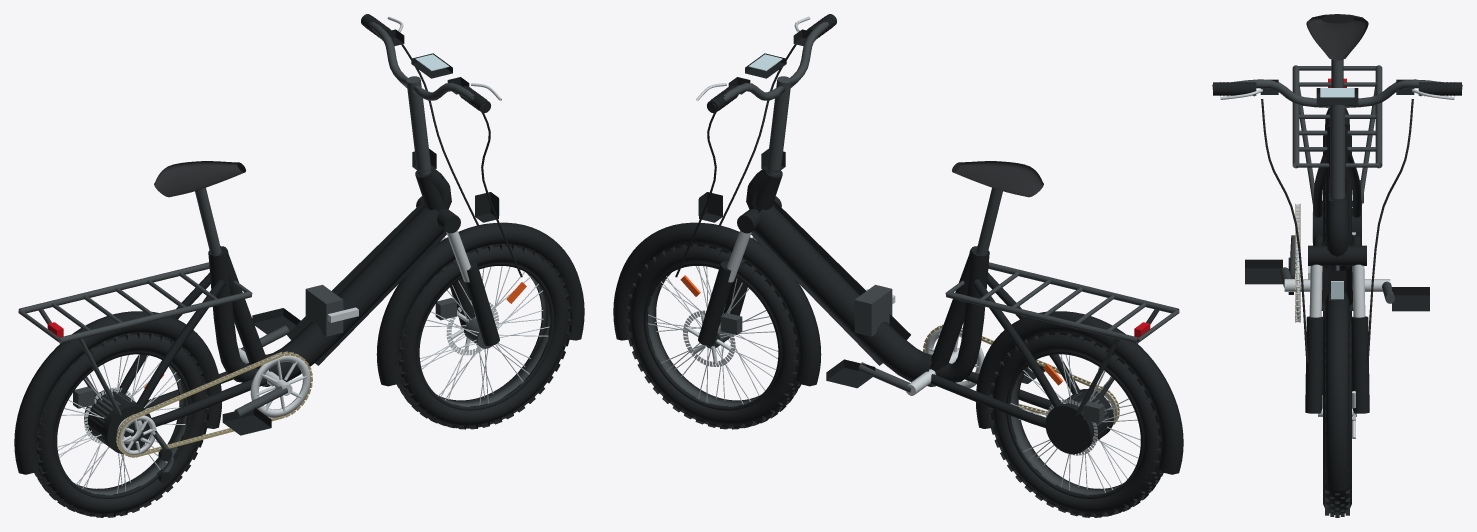
The model's file is lectric-xp-3-0.glb.
The picture shows the model from 3 angles, left to right: view 1: azimuth 30°, elevation 25°; view 2: azimuth 150°, elevation 25°; view 3: azimuth 270°, elevation 25°; orthographic projection. The views are drawn at different scales.
Parts seen in each view (by area): view 1: Bodywork | black, FrontWheel | rubber, RearWheel | rubber, Chassis | black, BatteryMount | black, Bodywork | graphite, Drive | steel, FrontWheel | steel, Cockpit | graphite, Fork | black, FrontWheel | graphite, Chassis | graphite (+11 smaller); view 2: Bodywork | black, FrontWheel | rubber, RearWheel | rubber, Chassis | black, BatteryMount | black, Bodywork | graphite, FrontWheel | steel, Cockpit | graphite, MotorMount | black, Chassis | graphite, Fork | black, Bodywork | seat (+10 smaller); view 3: Bodywork | black, Fork | black, Bodywork | graphite, Chassis | black, Cockpit | graphite, Cockpit | rubber, Bodywork | seat, Drive | black, FrontWheel | rubber, Fork | steel, Cockpit | black, Drive | steel (+8 smaller).
Part boxes in pixels (x1,y1,x2,y2): Bodywork | black: (14,192,584,474); FrontWheel | rubber: (396,244,572,429); RearWheel | rubber: (34,332,209,517); Chassis | black: (119,164,451,426); BatteryMount | black: (262,201,446,386); Bodywork | graphite: (18,262,252,415); Drive | steel: (117,347,310,455); FrontWheel | steel: (420,266,549,405); Cockpit | graphite: (368,22,485,175); Fork | black: (416,196,499,345); FrontWheel | graphite: (435,273,550,406); Chassis | graphite: (195,187,343,336); Bodywork | black: (613,192,1183,474); FrontWheel | rubber: (625,244,801,429); RearWheel | rubber: (988,332,1163,517); Chassis | black: (746,164,1079,427); BatteryMount | black: (751,201,935,386); Bodywork | graphite: (945,262,1179,415); FrontWheel | steel: (648,266,778,404); Cockpit | graphite: (712,22,829,175); MotorMount | black: (1045,389,1113,454); Chassis | graphite: (854,187,1002,336); Fork | black: (698,196,781,345); Bodywork | seat: (952,161,1043,197); Bodywork | black: (1325,108,1349,491); Fork | black: (1305,245,1369,413); Bodywork | graphite: (1292,65,1382,270); Chassis | black: (1313,124,1361,270); Cockpit | graphite: (1212,79,1462,198); Cockpit | rubber: (1213,82,1461,362); Bodywork | seat: (1306,14,1368,60); Drive | black: (1245,257,1429,311); FrontWheel | rubber: (1323,309,1351,517); Fork | steel: (1309,264,1365,317); Cockpit | black: (1220,79,1454,200); Drive | steel: (1284,204,1390,322).
Size of the model in its own units: 1.82 by 1.16 by 0.6634.
